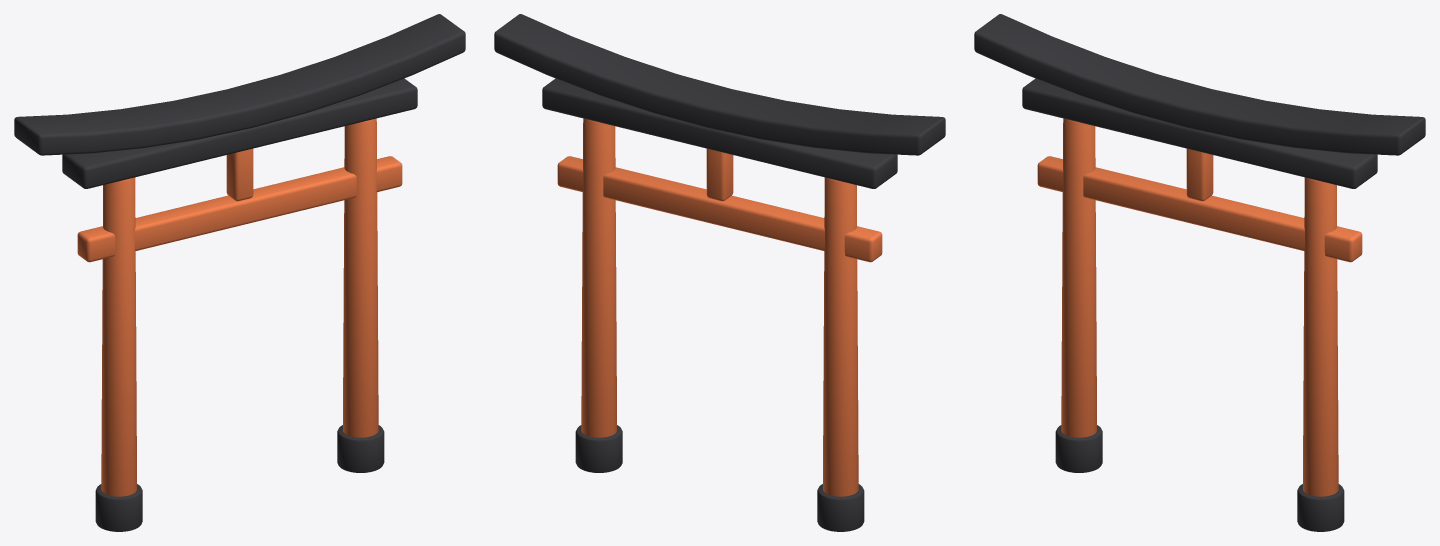
The model's file is torii.glb.
The picture shows the model from 3 angles, left to right: view 1: azimuth 30°, elevation 25°; view 2: azimuth 150°, elevation 25°; view 3: azimuth 330°, elevation 25°; orthographic projection.
Visible parts, largest first — view 1: torii; view 2: torii; view 3: torii.
Boxes of the visible parts, x1,y1,x2,y2 form: torii: [14, 14, 465, 531]; torii: [494, 14, 945, 531]; torii: [974, 14, 1425, 531].
Size of the model in its own units: 4.6 by 4.31 by 0.5.
